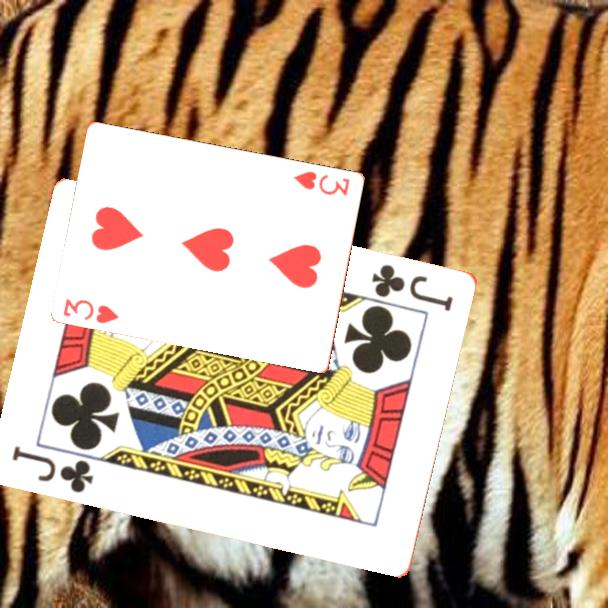c11: (368, 260, 457, 314), (9, 442, 97, 496)
h03: (290, 167, 353, 199), (60, 295, 122, 326)
